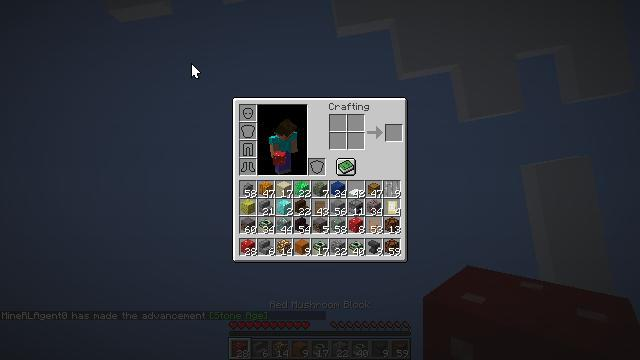cursor: (191, 63, 201, 79)
